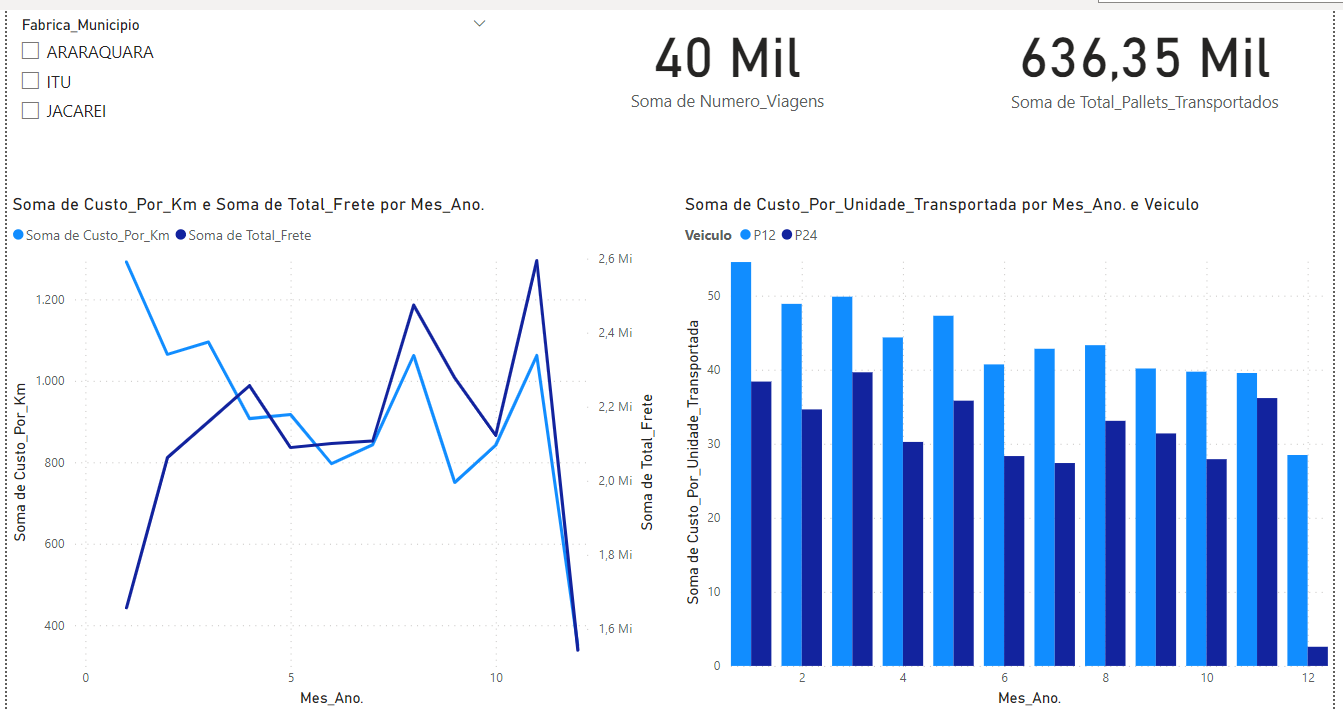

The page's visual inventory and layout, read from the dashboard file:
{"tool":"powerbi","page":{"name":"CUSTOS","canvas":[1280,720],"ordinal":4},"visuals":[{"type":"lineChart","title":"CUSTO POR KM E CUSTO DO FRETE","fields":{"Category":["galacticos view_analises_bi.Mes_Ano."],"Y":["Sum(galacticos view_analises_bi.Custo_Por_Km)"],"Y2":["Sum(galacticos view_analises_bi.Total_Frete)"]},"box":[247.1,16.6,1008.9,314.7],"z":0},{"type":"lineClusteredColumnComboChart","title":"MÉDIA DE CUSTO POR KM E PRODUTIVIDADE","fields":{"Category":["galacticos view_analises_bi.Mes_Ano."],"Y":["Avg(galacticos view_analises_bi.Custo_Por_Unidade_Transportada)"],"Series":["galacticos view_analises_bi.Fabrica_Municipio"],"Y2":["Avg(galacticos view_analises_bi.Produtividade_Carga_Por_Frete)"]},"box":[17.8,340.1,1238.2,369.4],"z":1000},{"type":"slicer","fields":{"Values":["galacticos view_analises_bi.Fabrica_Municipio"]},"box":[19.1,16.6,207.6,114.7],"z":2000},{"type":"card","title":"TOTAL DE VIAGENS","fields":{"Values":["Sum(galacticos view_analises_bi.Numero_Viagens)"]},"box":[20.4,141.4,207.6,91.7],"z":3000},{"type":"card","title":"PALETES TRANSPORTADOS","fields":{"Values":["Sum(galacticos view_analises_bi.Total_Pallets_Transportados)"]},"box":[20.4,239.5,207.6,91.7],"z":4000}]}

Visuals, with their boxes on the page's 1280x720 design canvas (x1, y1, x2, y2). These are canvas units, not pixel positions in the 1343x710 screenshot, which may show the page scaled, cropped or inside an application window:
"CUSTO POR KM E CUSTO DO FRETE" lineChart: left=247, top=17, right=1256, bottom=331
"MÉDIA DE CUSTO POR KM E PRODUTIVIDADE" lineClusteredColumnComboChart: left=18, top=340, right=1256, bottom=710
slicer - galacticos view_analises_bi.Fabrica_Municipio: left=19, top=17, right=227, bottom=131
"TOTAL DE VIAGENS" card: left=20, top=141, right=228, bottom=233
"PALETES TRANSPORTADOS" card: left=20, top=240, right=228, bottom=331
